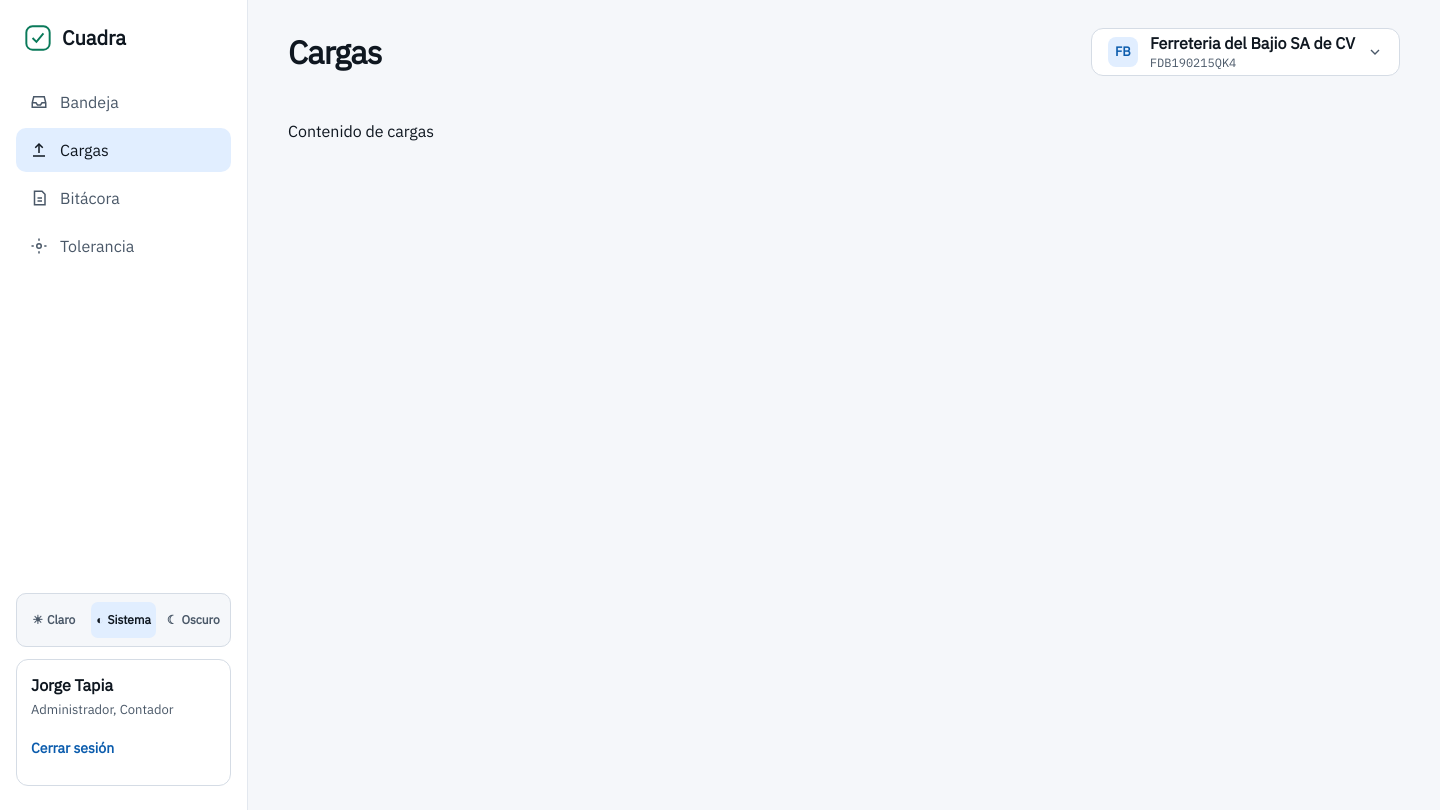
it: ShellLayout: cambio de empresa y cierre de sesión › un fallo de red deja el shell en ready, avisa y no navega
The image size is (1440, 810).
Click the button named "Cambiar de empresa" at (1245,52), box [1091, 28, 1400, 76]
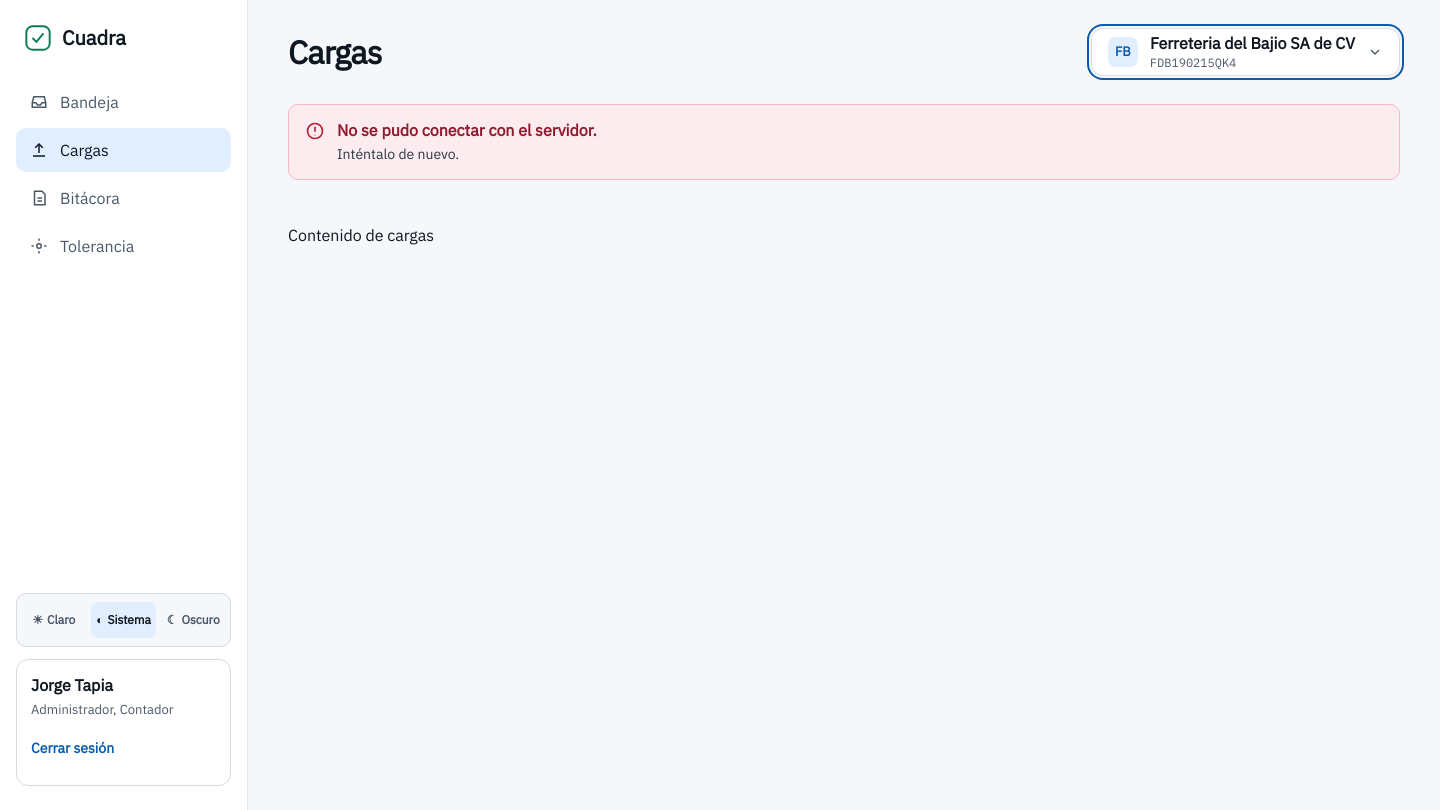
Check: the message does not show "texto del servidor", box [288, 104, 1400, 180]
Check: the message shows "No se pudo conectar con el servidor.", box [337, 120, 597, 140]
